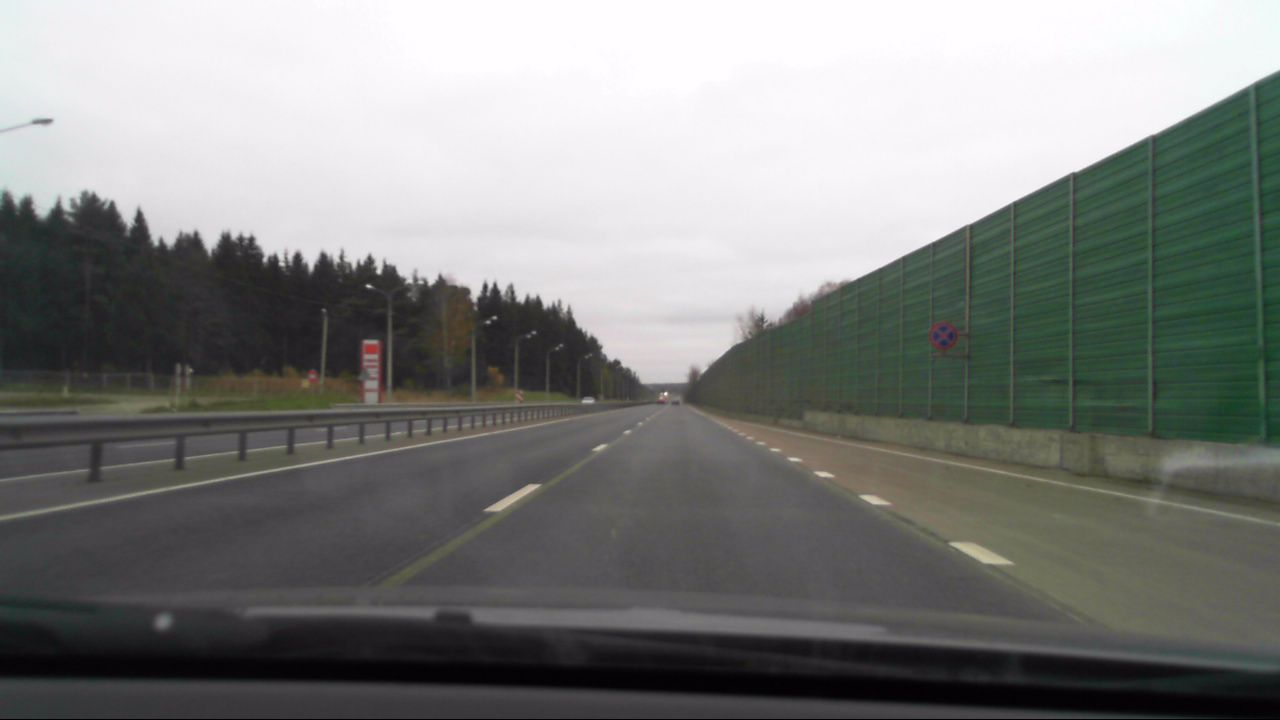No Parking: (930, 323, 958, 351)
